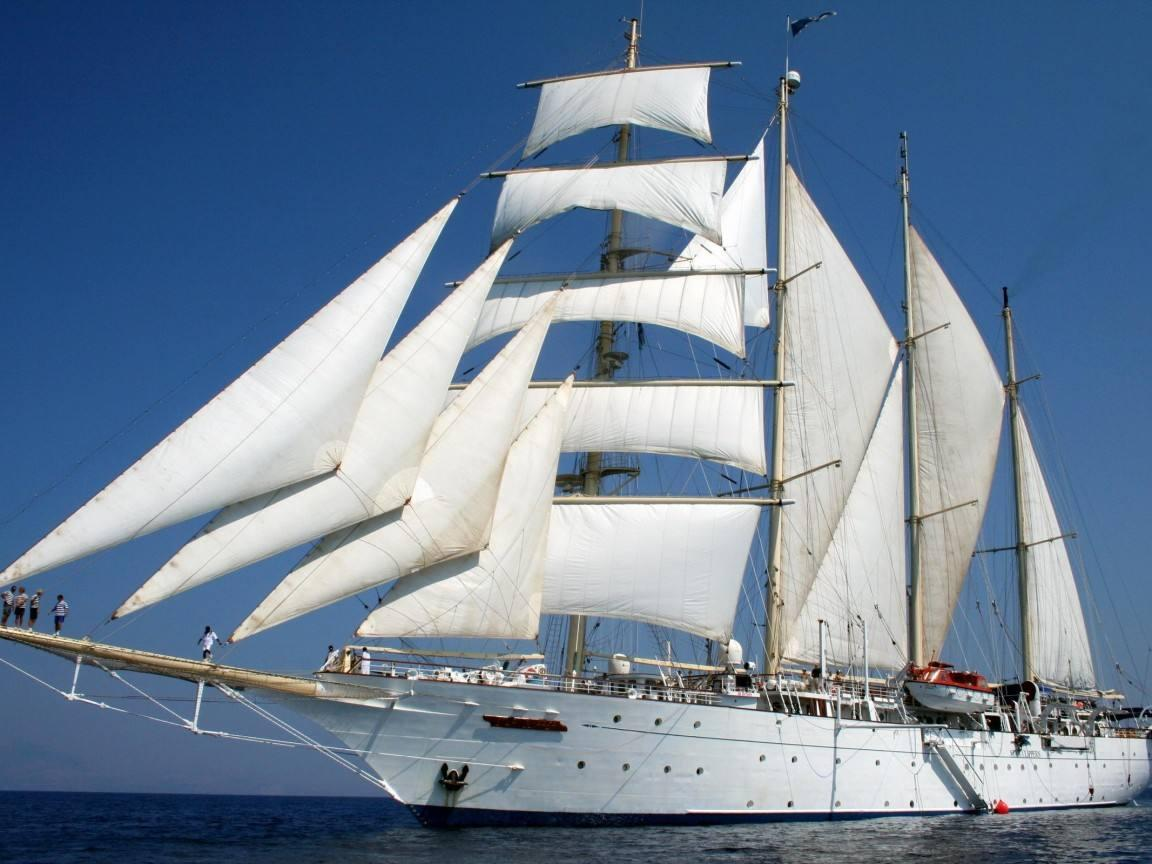fanchuan: (6, 5, 1152, 825)
